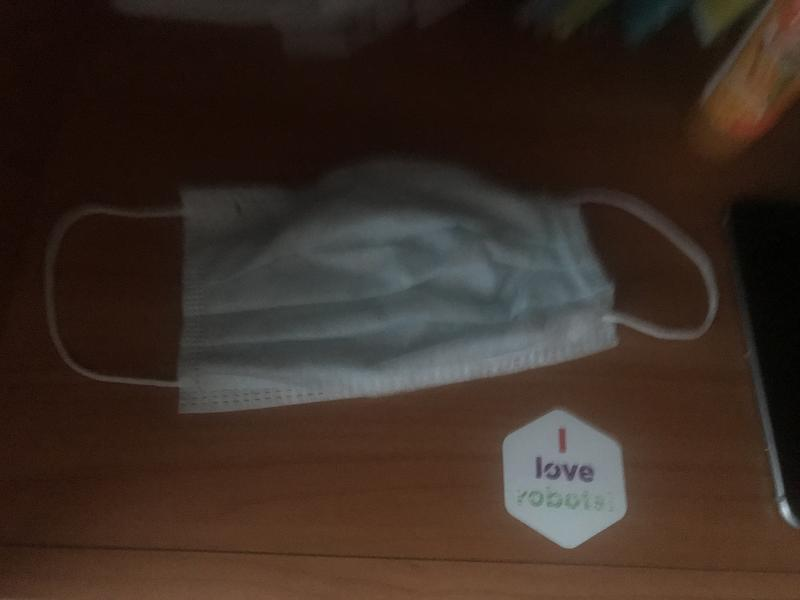medical_mask: (48, 164, 719, 403)
